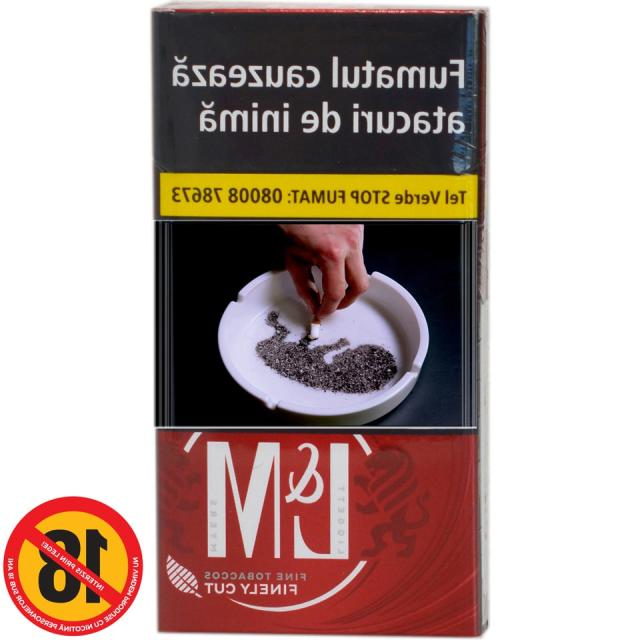lm: (156, 14, 490, 634)
